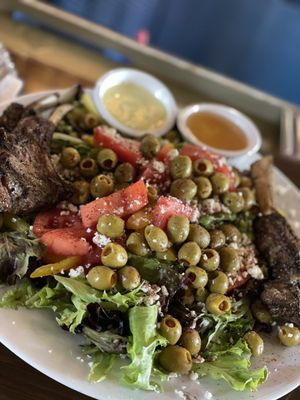salad: (6, 0, 298, 135)
sushi: (86, 67, 178, 140), (176, 102, 262, 173)
